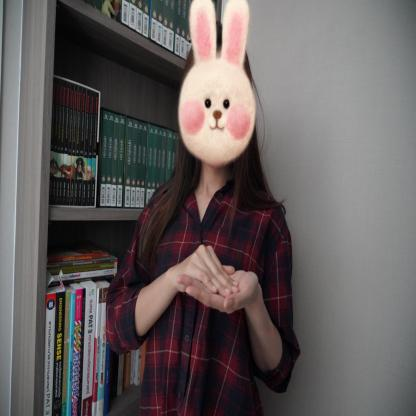Love: (170, 240, 262, 320)
